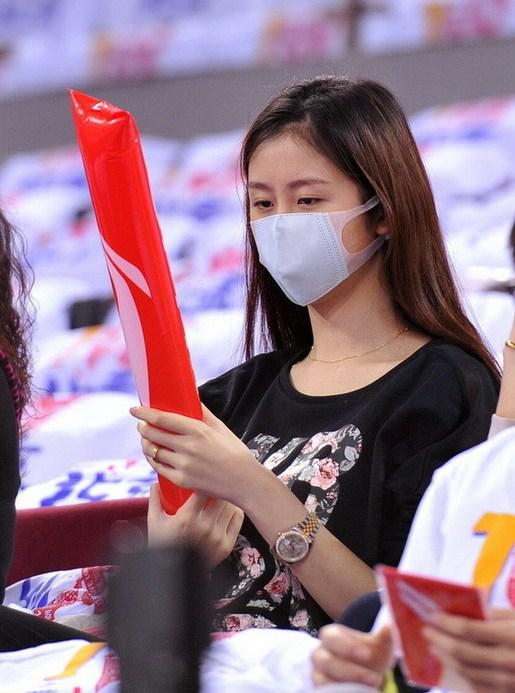OK: (232, 176, 356, 300)
